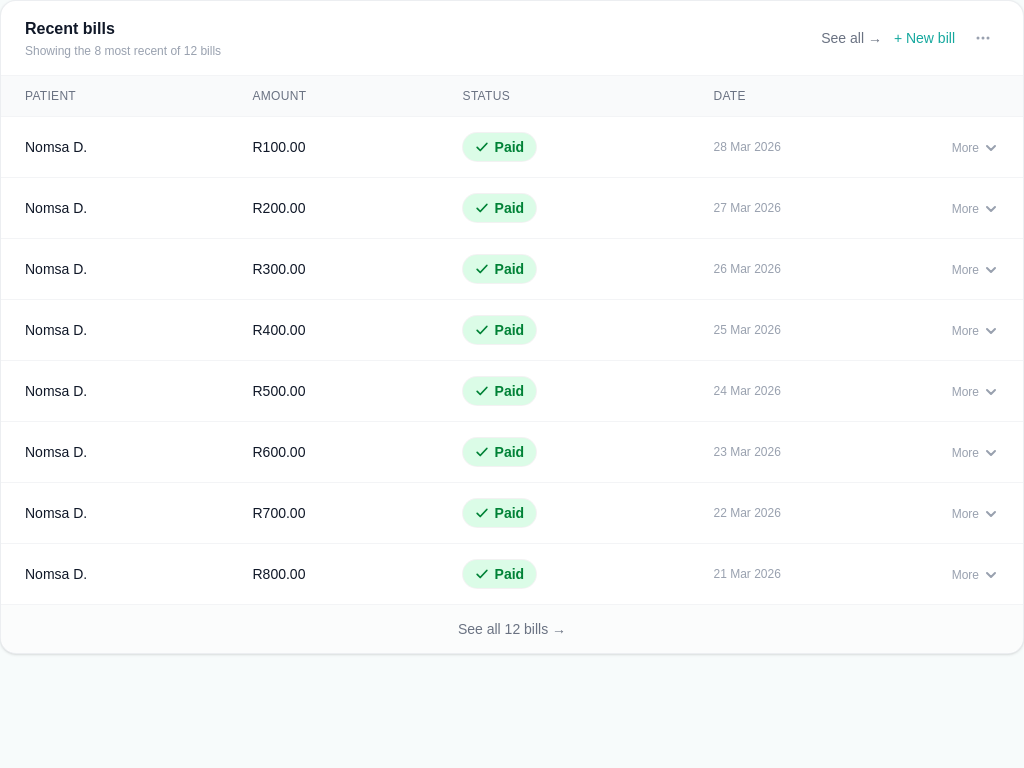
Scenario: the exports still carry every row › says in the menu how many rows the file will hold
Click the button titled "Export": click(983, 38) [967, 22, 999, 54]
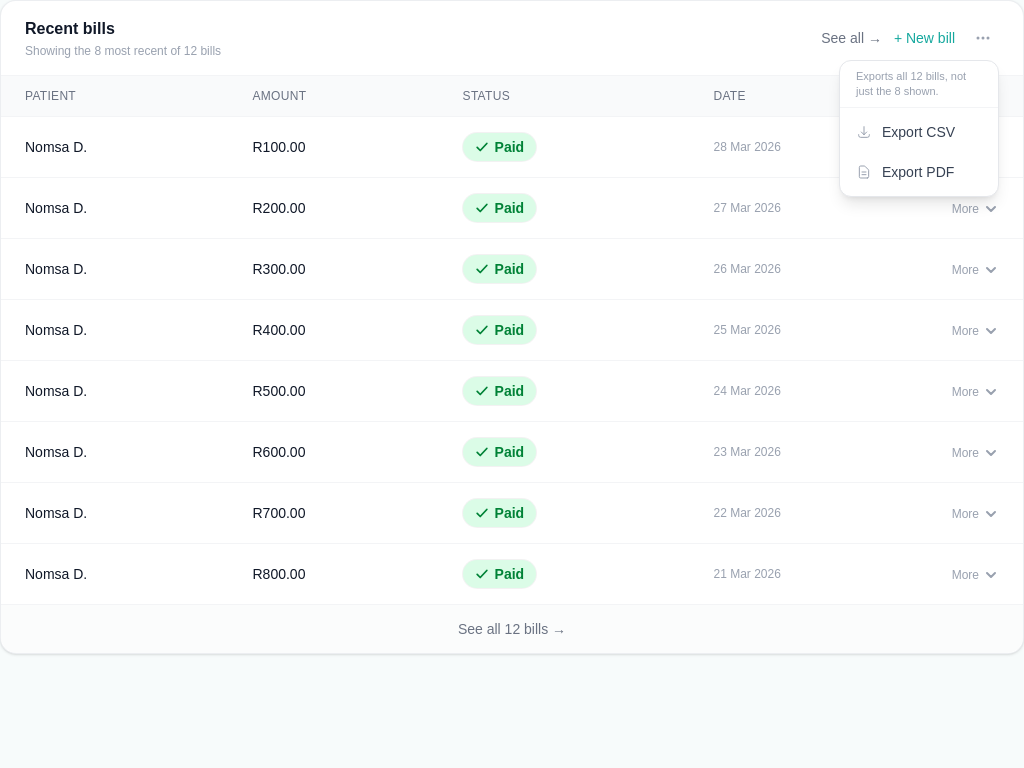
Now the text with test id "bills-export-scope" reads "Exports all 12 bills, not just the 8 shown.", box [840, 65, 998, 108]
